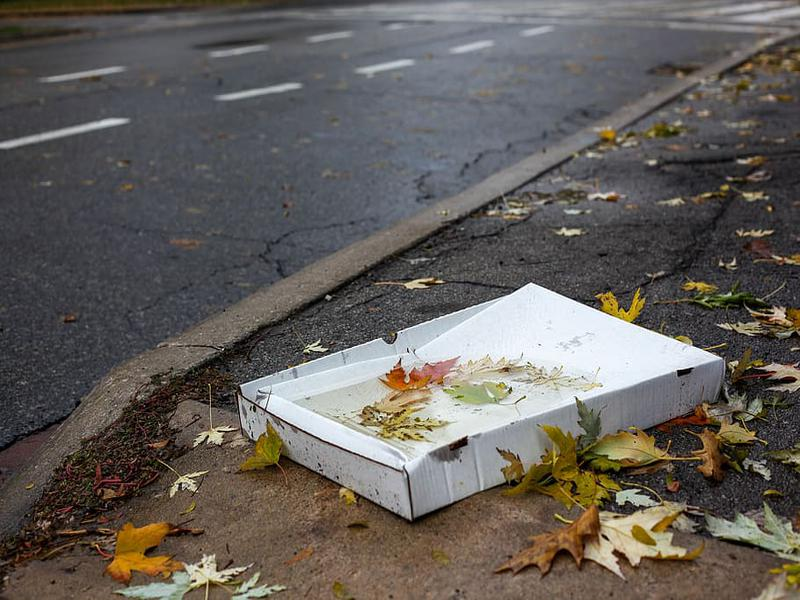cardboard: (235, 276, 727, 524)
leaf: (479, 506, 604, 576), (582, 500, 692, 576), (702, 498, 799, 559), (98, 521, 187, 584), (589, 417, 703, 466), (235, 421, 293, 486), (181, 548, 253, 600), (377, 351, 462, 393), (145, 454, 212, 500), (188, 382, 235, 446), (443, 381, 527, 412), (593, 284, 652, 323)
